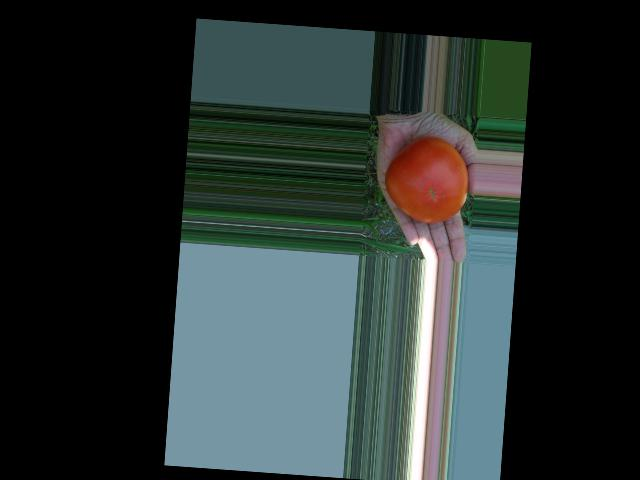tomato: (381, 134, 471, 225)
